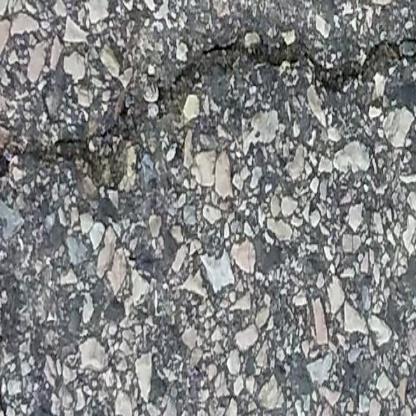Cracks: (0, 36, 416, 204), (0, 318, 11, 416)
